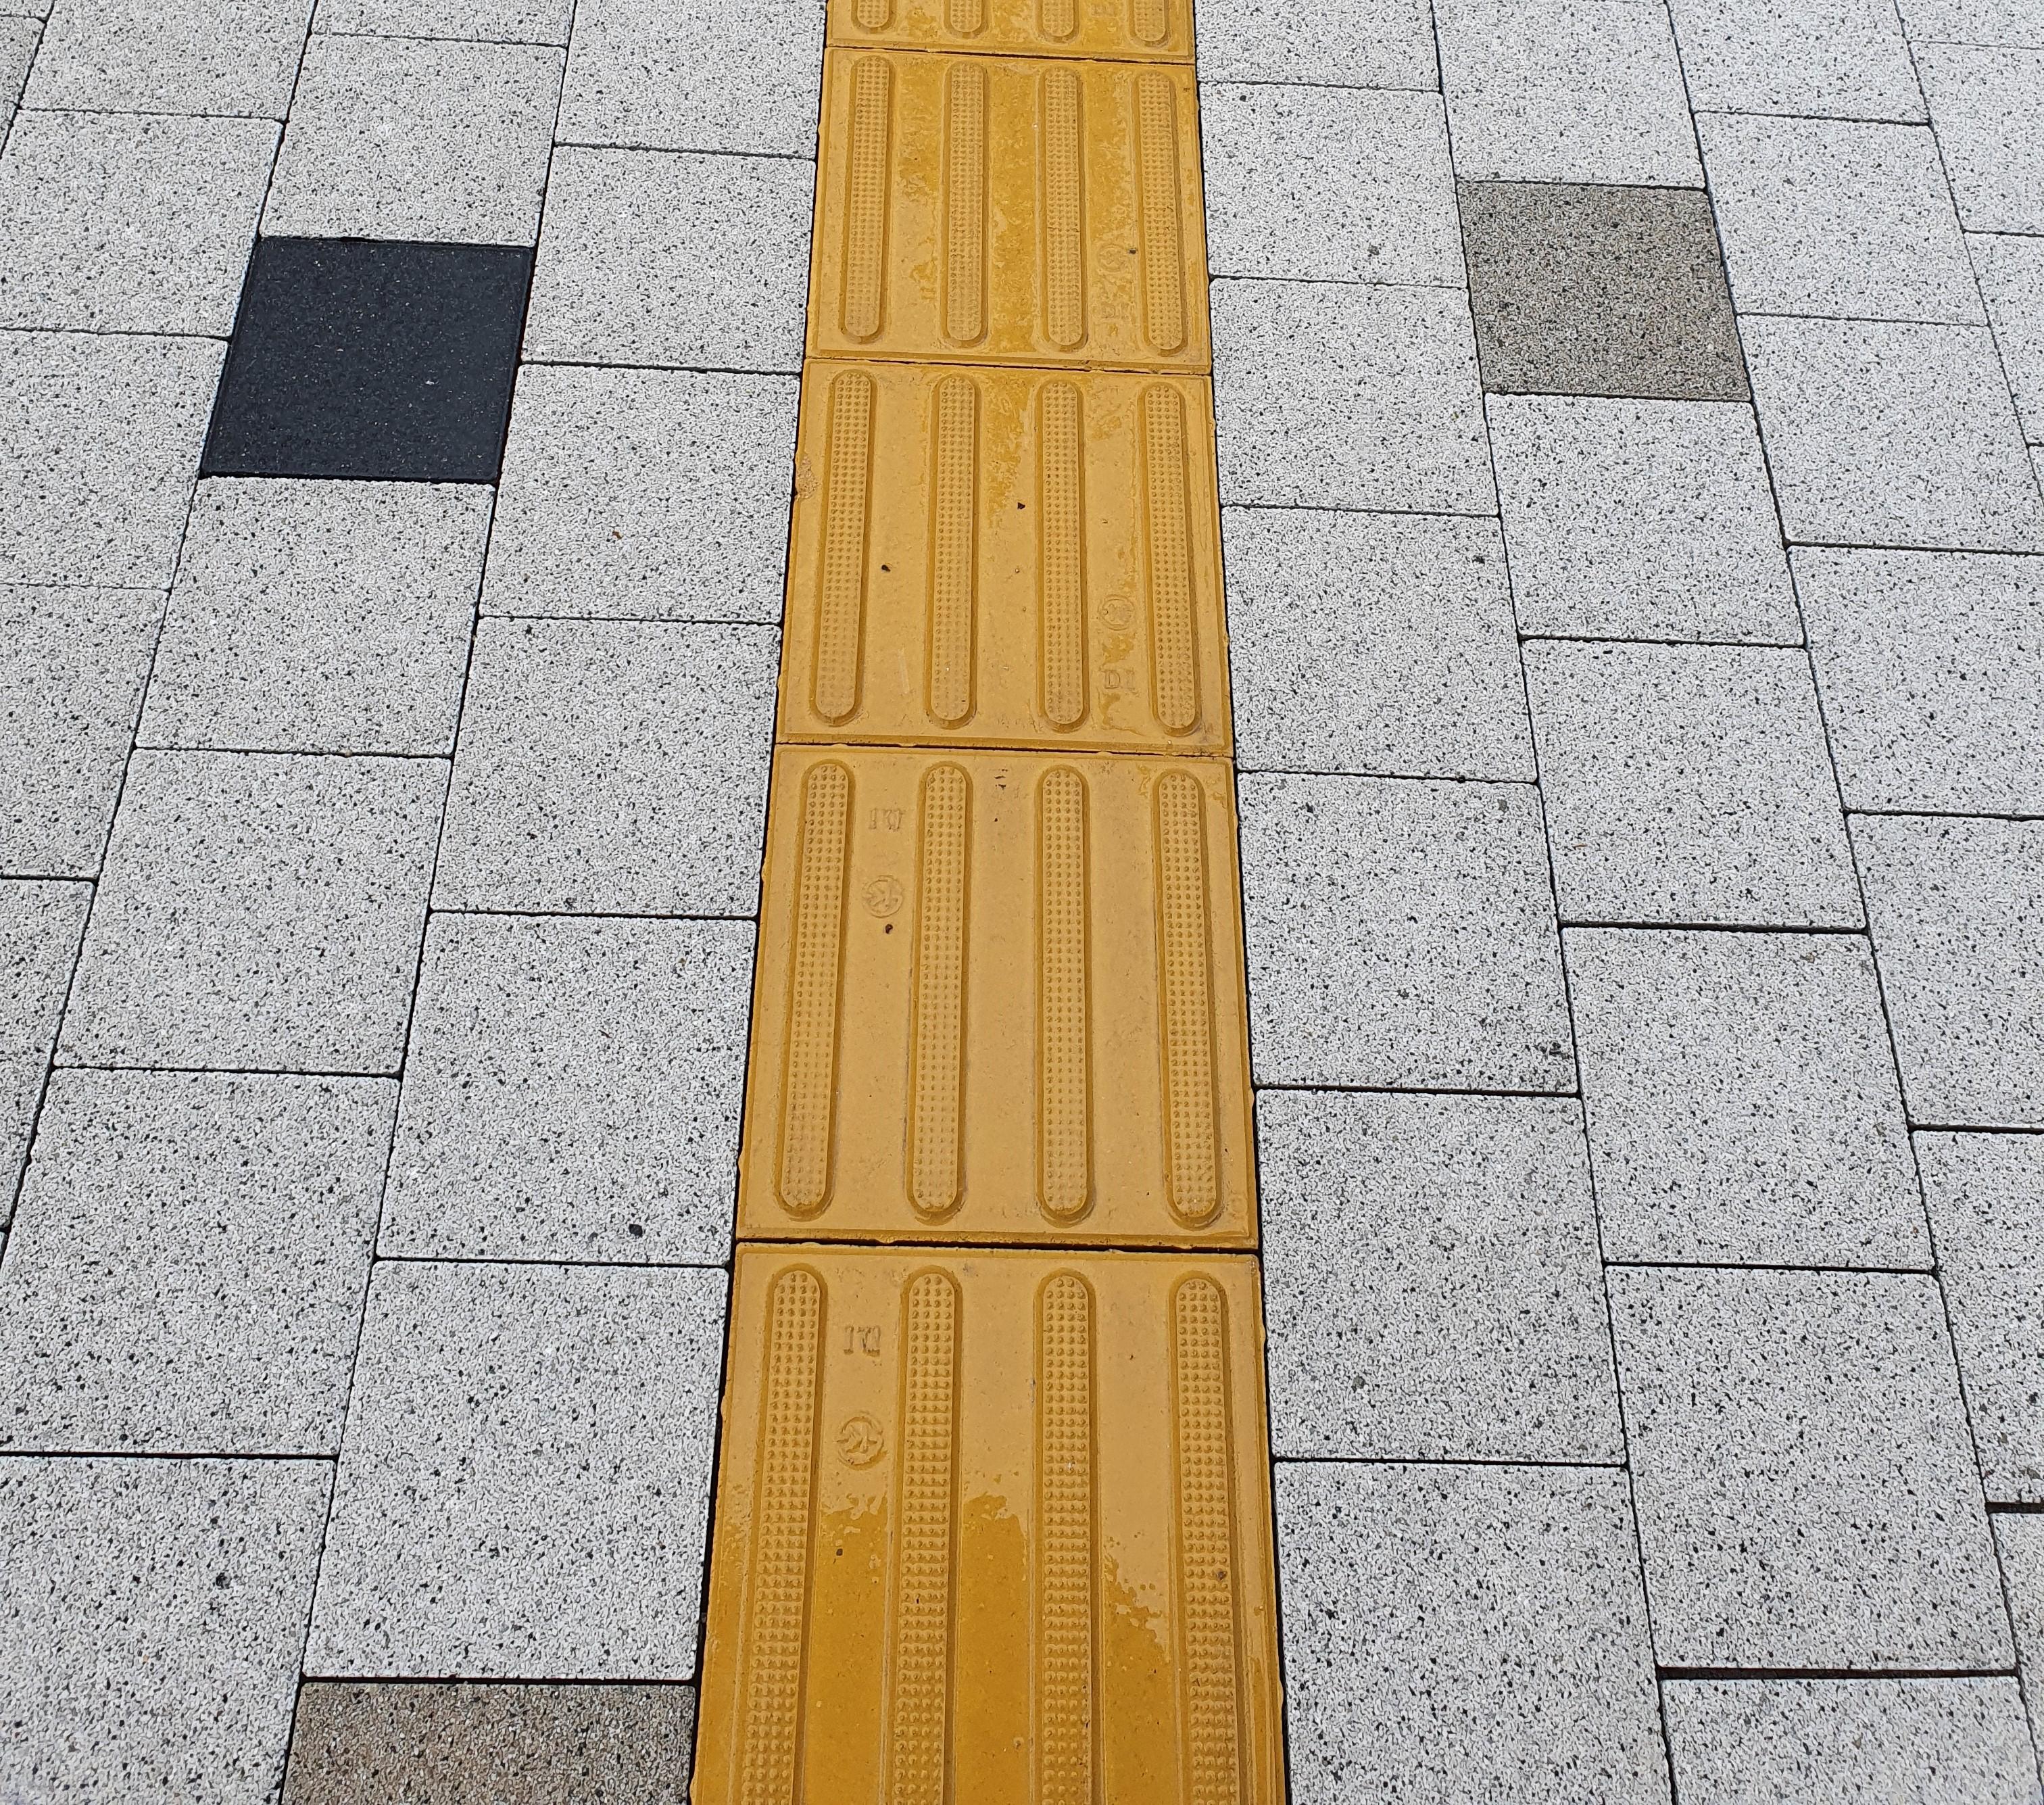guideBlock: (748, 1244, 1303, 1805), (756, 733, 1244, 1209), (809, 348, 1216, 836), (821, 42, 1173, 389)
